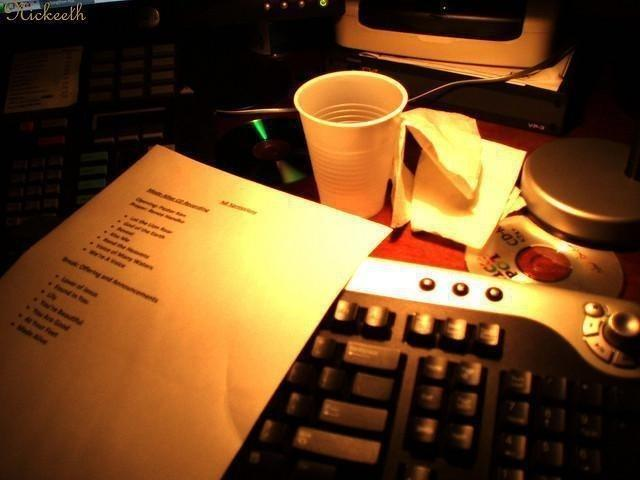cup-disposable: (294, 69, 406, 218)
